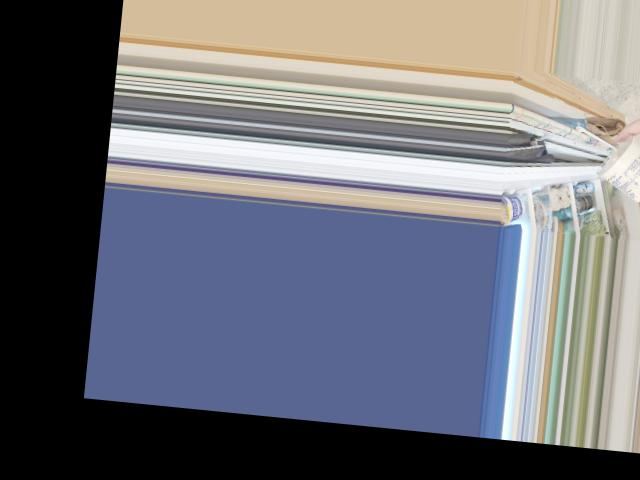cotage: (592, 133, 640, 205)
